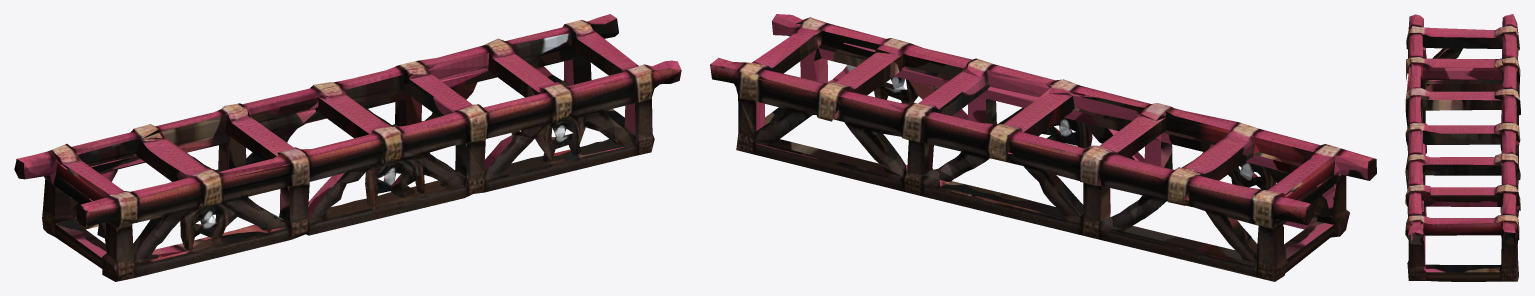
File: park_coaster_track_1117.glb
3 renders of one model, left to right at view 1: azimuth 30°, elevation 25°; view 2: azimuth 150°, elevation 25°; view 3: azimuth 270°, elevation 25°, orthographic. The views are drawn at different scales.
Parts seen in each view (by area): view 1: world; view 2: world; view 3: world.
Part boxes in pixels (x1,y1,x2,y2): world: (14,14,681,281); world: (710,14,1376,281); world: (1405,14,1520,281).
Size of the model in its own units: 7.59 by 1 by 1.7.
Materials: 1 (1 with a texture image).
